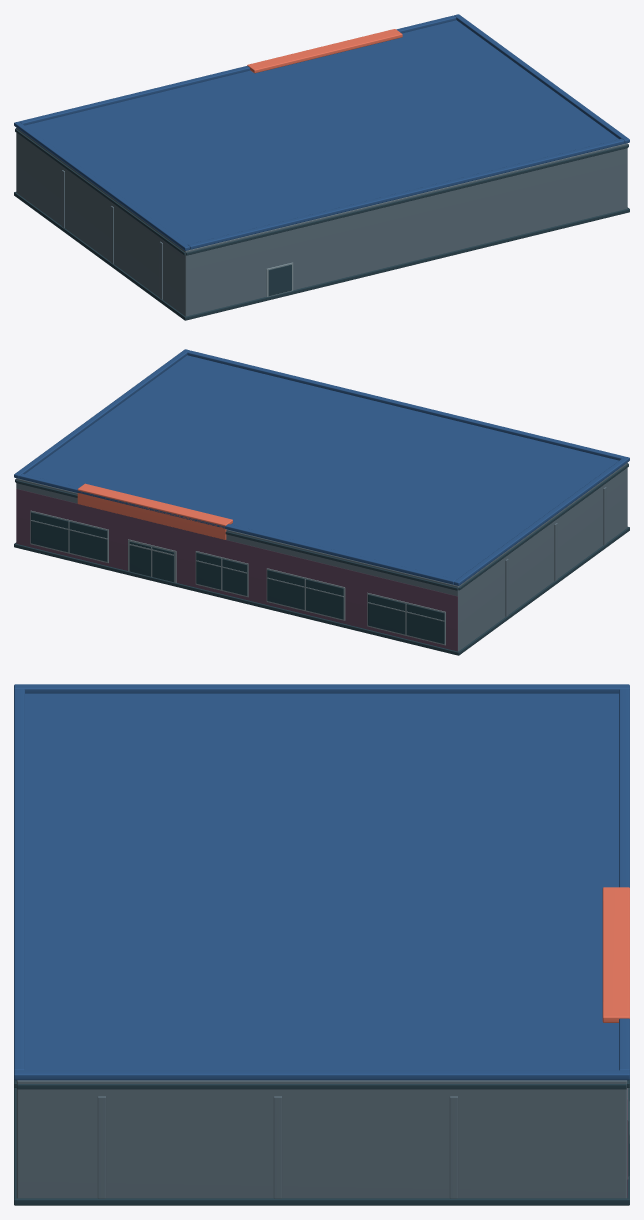
File: d07_retail_buildings_02.glb
3 views of the same model, one above another, from view 1: azimuth 30°, elevation 25°; view 2: azimuth 150°, elevation 25°; view 3: azimuth 270°, elevation 25° (orthographic). The views are drawn at different scales.
Parts seen in each view (by area): view 1: D07RetailBuildings02_Mesh; view 2: D07RetailBuildings02_Mesh; view 3: D07RetailBuildings02_Mesh.
Part boxes in pixels (x1,y1,x2,y2): D07RetailBuildings02_Mesh: (14, 14, 629, 320); D07RetailBuildings02_Mesh: (14, 349, 629, 655); D07RetailBuildings02_Mesh: (14, 684, 629, 1205).
Bounding box in the file's own units: 42 × 6.68 × 28.
